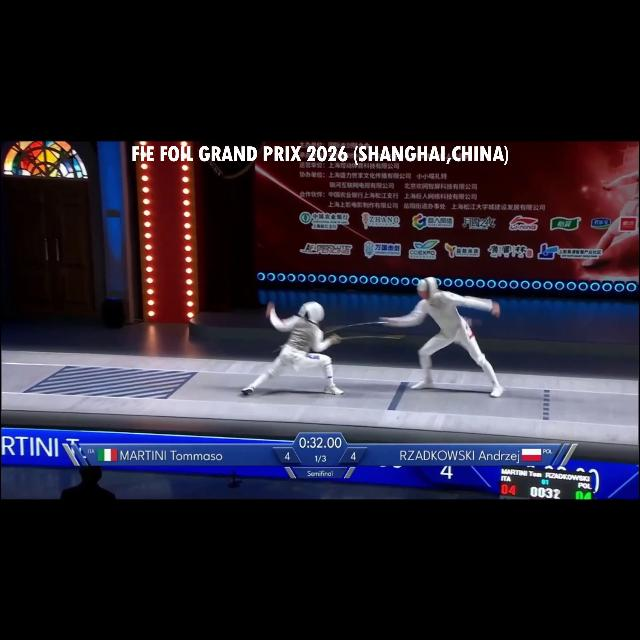blade: (318, 314, 392, 338), (330, 332, 410, 346)
